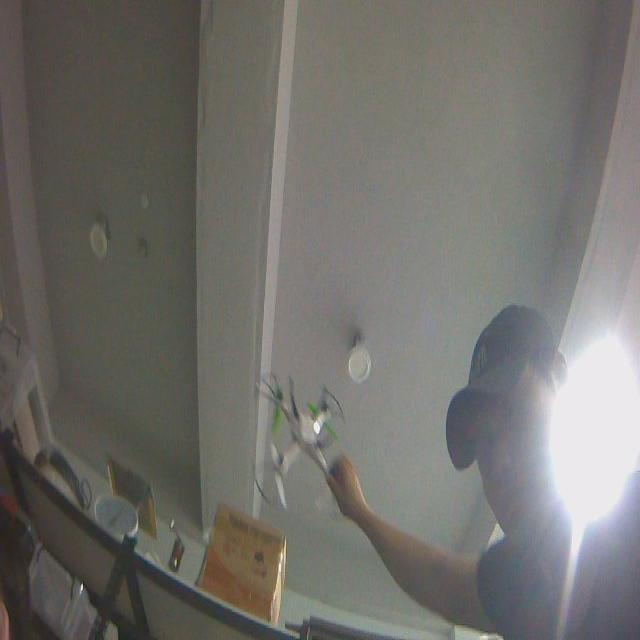drone: (250, 367, 352, 525)
